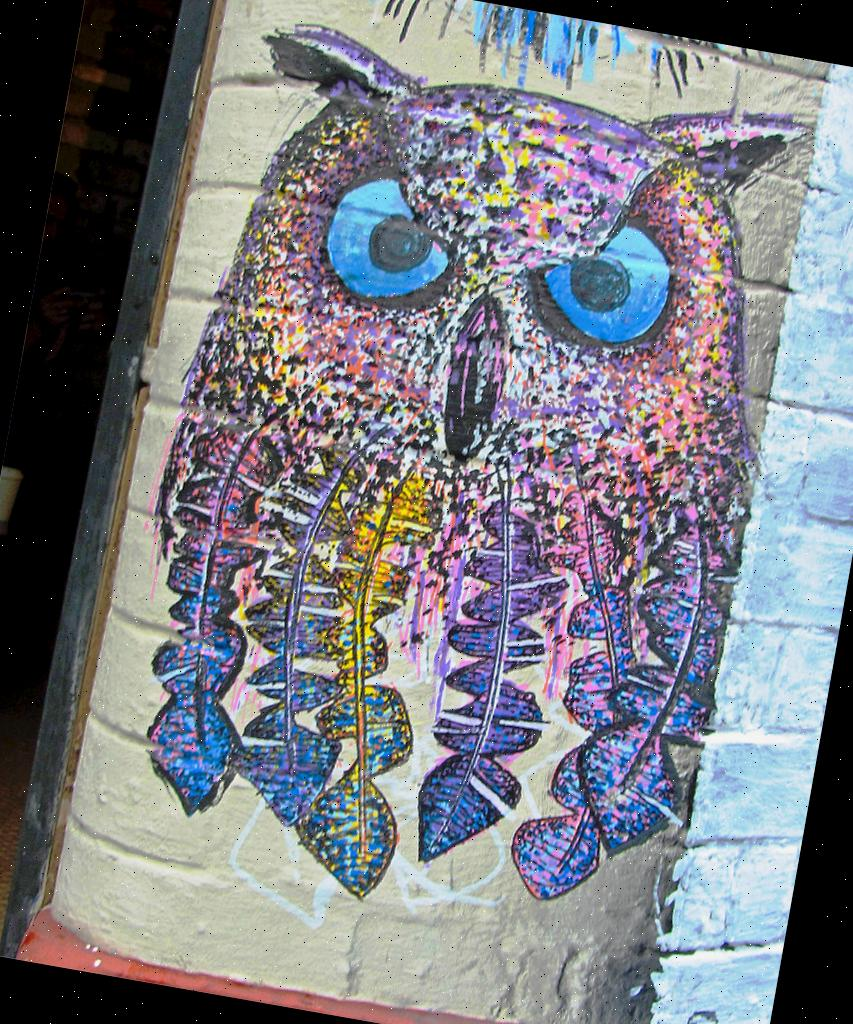Owl: (80, 17, 824, 966)
